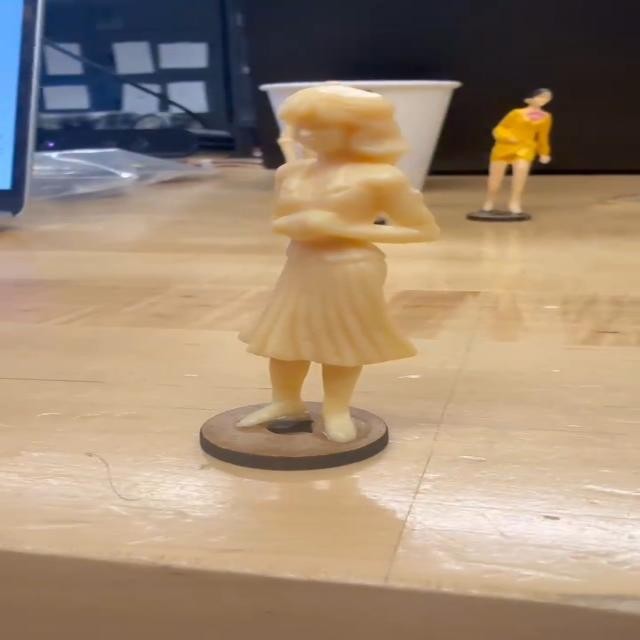Unauthorized: (225, 81, 442, 437)
